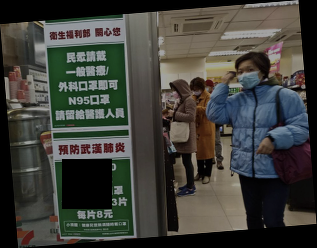with_mask: (237, 64, 261, 91), (190, 87, 204, 97), (171, 88, 180, 100), (204, 84, 211, 93)
